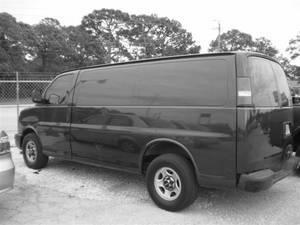car: (14, 55, 300, 213)
